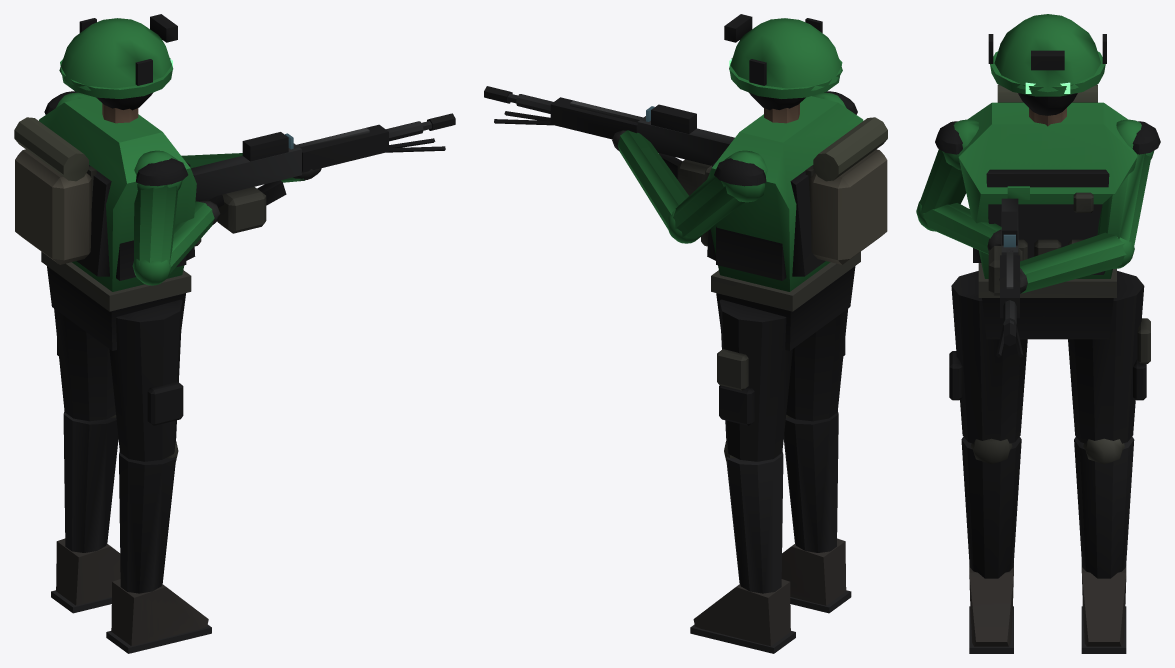
File: u_kommando.glb
The picture shows the model from 3 angles, left to right: view 1: azimuth 30°, elevation 25°; view 2: azimuth 150°, elevation 25°; view 3: azimuth 270°, elevation 25°; orthographic projection.
Visible parts, largest first — view 1: Kommando_Walls, Kommando_shL, Kommando_shR, Kommando_thL, Kommando_Details, Kommando_thR; view 2: Kommando_Walls, Kommando_shR, Kommando_shL, Kommando_Details, Kommando_thR, Kommando_thL; view 3: Kommando_Walls, Kommando_shR, Kommando_shL, Kommando_thR, Kommando_thL, Kommando_Details.
Part boxes in pixels (x1,y1,x2,y2): Kommando_Walls: [15, 18, 455, 350]; Kommando_shL: [106, 441, 211, 653]; Kommando_shR: [51, 411, 120, 613]; Kommando_thL: [109, 299, 182, 461]; Kommando_Details: [14, 14, 445, 425]; Kommando_thR: [54, 308, 115, 421]; Kommando_Walls: [484, 18, 887, 350]; Kommando_shR: [690, 441, 795, 653]; Kommando_shL: [781, 411, 851, 613]; Kommando_Details: [494, 14, 887, 425]; Kommando_thR: [719, 299, 792, 461]; Kommando_thL: [786, 309, 847, 421]; Kommando_Walls: [916, 14, 1160, 346]; Kommando_shR: [1074, 437, 1134, 653]; Kommando_shL: [961, 436, 1021, 653]; Kommando_thR: [1068, 271, 1144, 443]; Kommando_thL: [951, 271, 1027, 443]; Kommando_Details: [949, 34, 1150, 400].
Size of the model in its own units: 0.421 by 0.5985 by 0.2192.
